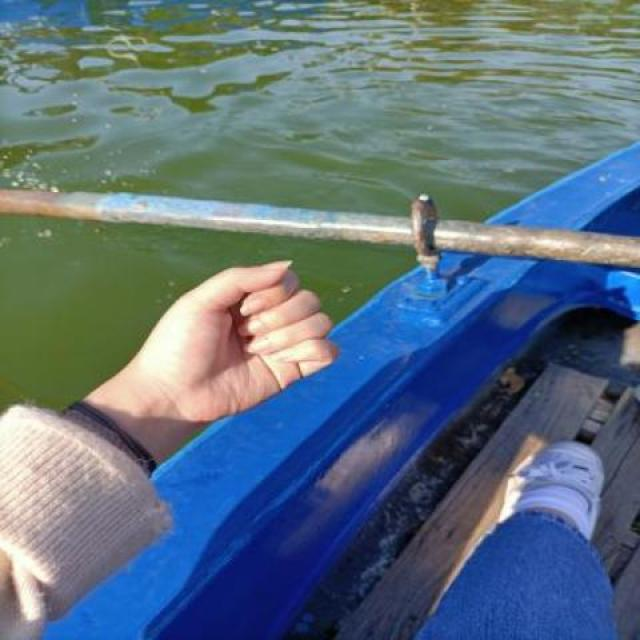fist: (141, 251, 343, 433)
